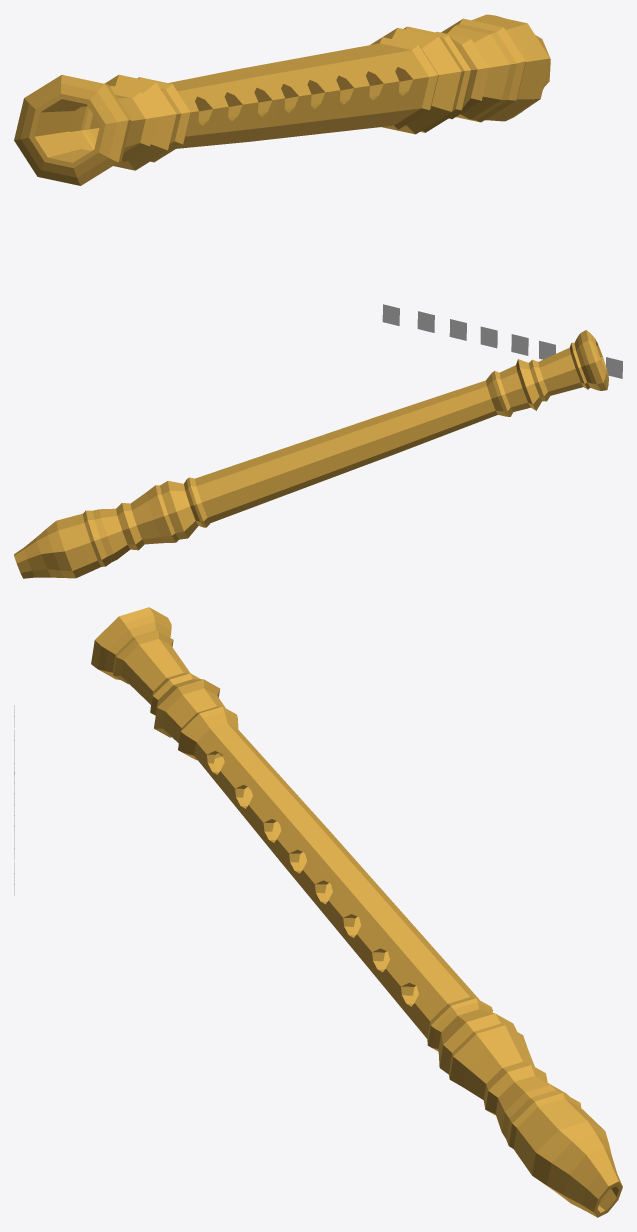
Rendered from dudu.glb.
3 renders of one model, top to bottom at view 1: azimuth 30°, elevation 25°; view 2: azimuth 150°, elevation 25°; view 3: azimuth 270°, elevation 25°, orthographic. The views are drawn at different scales.
Visible parts, largest first — view 1: Cylinder; view 2: Cylinder; view 3: Cylinder.
Boxes of the visible parts, bbox=[...] form: Cylinder: bbox=[14, 14, 550, 185]; Cylinder: bbox=[14, 330, 608, 578]; Cylinder: bbox=[91, 607, 622, 1217].
Bounding box in the file's own units: 1.3 × 0.6367 × 1.09.
